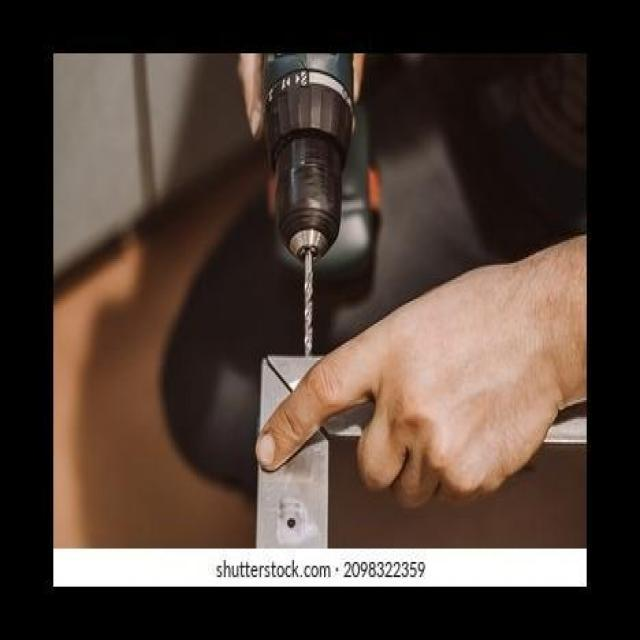drill: (264, 54, 380, 357)
